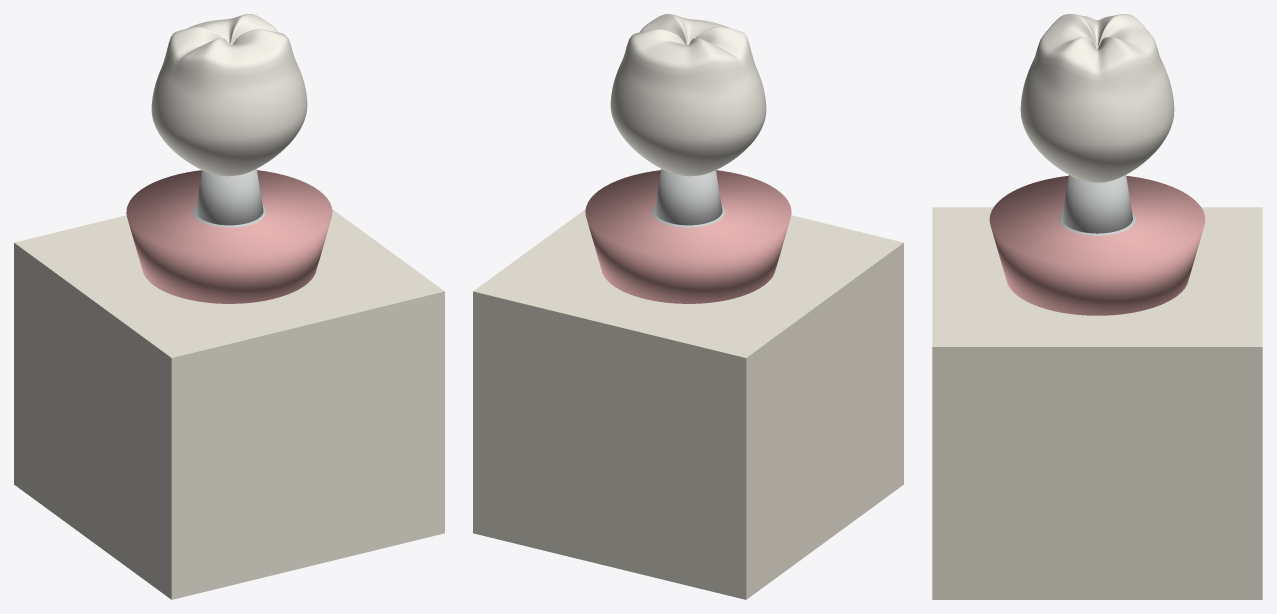
The model's file is implant_blender.glb.
3 renders of one model, left to right at view 1: azimuth 30°, elevation 25°; view 2: azimuth 150°, elevation 25°; view 3: azimuth 270°, elevation 25°, orthographic. The views are drawn at different scales.
Parts seen in each view (by area): view 1: Bone, Crown, Gum, Abutment; view 2: Bone, Crown, Gum, Abutment; view 3: Bone, Gum, Crown, Abutment.
Boxes of the visible parts, x1,y1,x2,y2 form: Bone: [14, 209, 444, 599]; Crown: [151, 14, 307, 176]; Gum: [126, 170, 332, 303]; Abutment: [192, 169, 266, 227]; Bone: [473, 209, 903, 599]; Crown: [610, 14, 766, 176]; Gum: [585, 170, 791, 303]; Abutment: [651, 169, 725, 227]; Bone: [932, 207, 1262, 599]; Gum: [989, 175, 1205, 315]; Crown: [1020, 14, 1174, 182]; Abutment: [1059, 175, 1135, 235].
Bounding box in the file's own units: 2.6 × 4.37 × 2.6.
